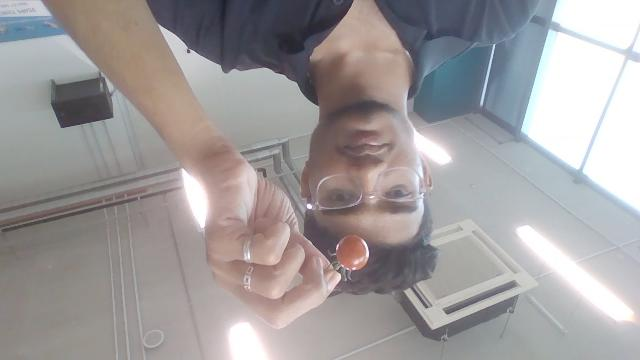Fully Grown: (335, 233, 370, 272)
